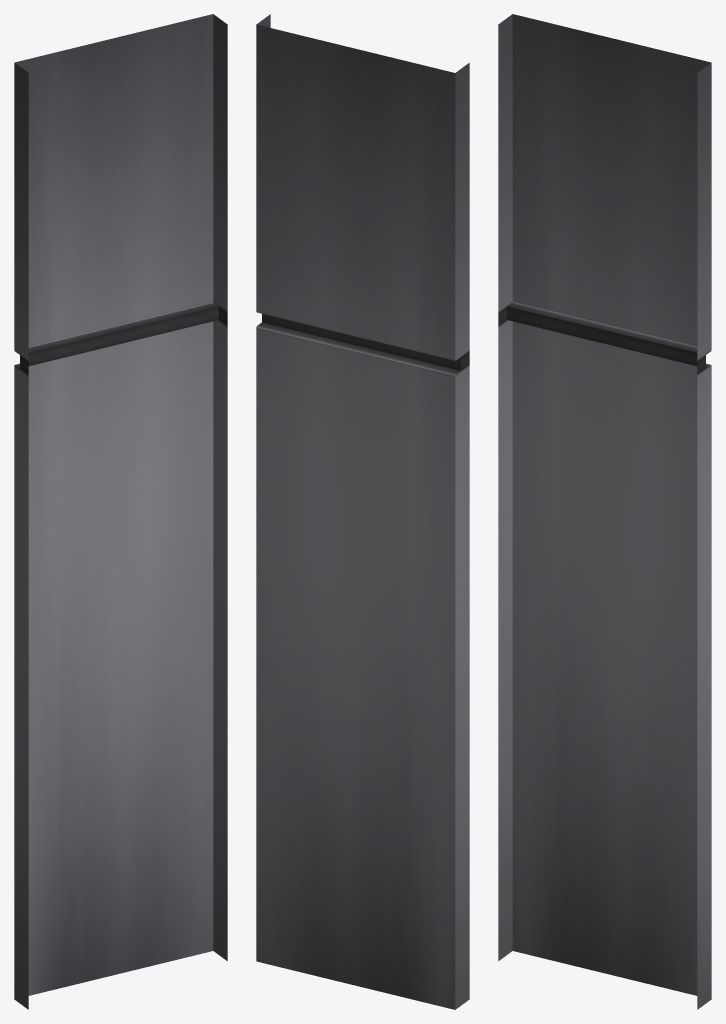
The model's file is VAL_1M_HB.fbx.
3 views of the same model, side by side, from view 1: azimuth 30°, elevation 25°; view 2: azimuth 150°, elevation 25°; view 3: azimuth 330°, elevation 25° (orthographic).
Parts seen in each view (by area): view 1: VAL_1M_HB; view 2: VAL_1M_HB; view 3: VAL_1M_HB.
Boxes of the visible parts, x1=… form: VAL_1M_HB: x1=14, y1=14, x2=227, y2=1009; VAL_1M_HB: x1=256, y1=14, x2=469, y2=1009; VAL_1M_HB: x1=498, y1=14, x2=711, y2=1009.
Bounding box in the file's own units: 1 × 4.5 × 0.125.
